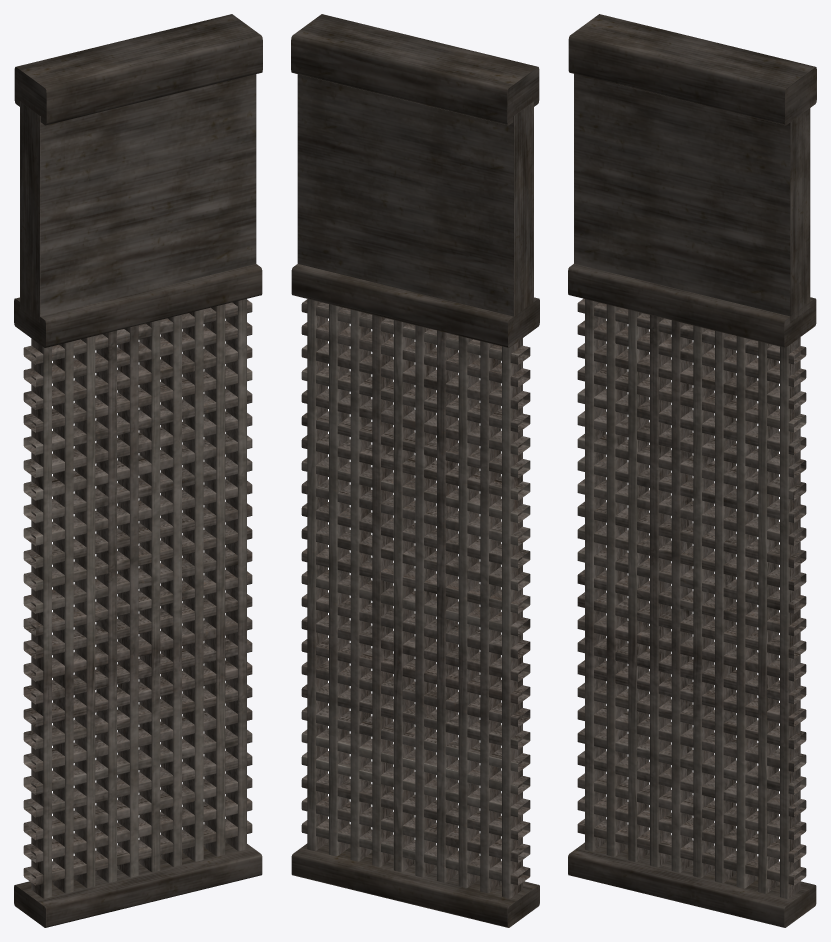
File: ShrineModule_Wall-01.fbx
3 views of the same model, side by side, from view 1: azimuth 30°, elevation 25°; view 2: azimuth 150°, elevation 25°; view 3: azimuth 330°, elevation 25° (orthographic).
Parts seen in each view (by area): view 1: ShrineModule_Wall-01; view 2: ShrineModule_Wall-01; view 3: ShrineModule_Wall-01.
Boxes of the visible parts, box(x1,y1,x2,y2) form: ShrineModule_Wall-01: box(14, 14, 262, 927); ShrineModule_Wall-01: box(291, 14, 539, 927); ShrineModule_Wall-01: box(568, 14, 816, 927).
Size of the model in its own units: 1.51 by 5.56 by 0.383.
